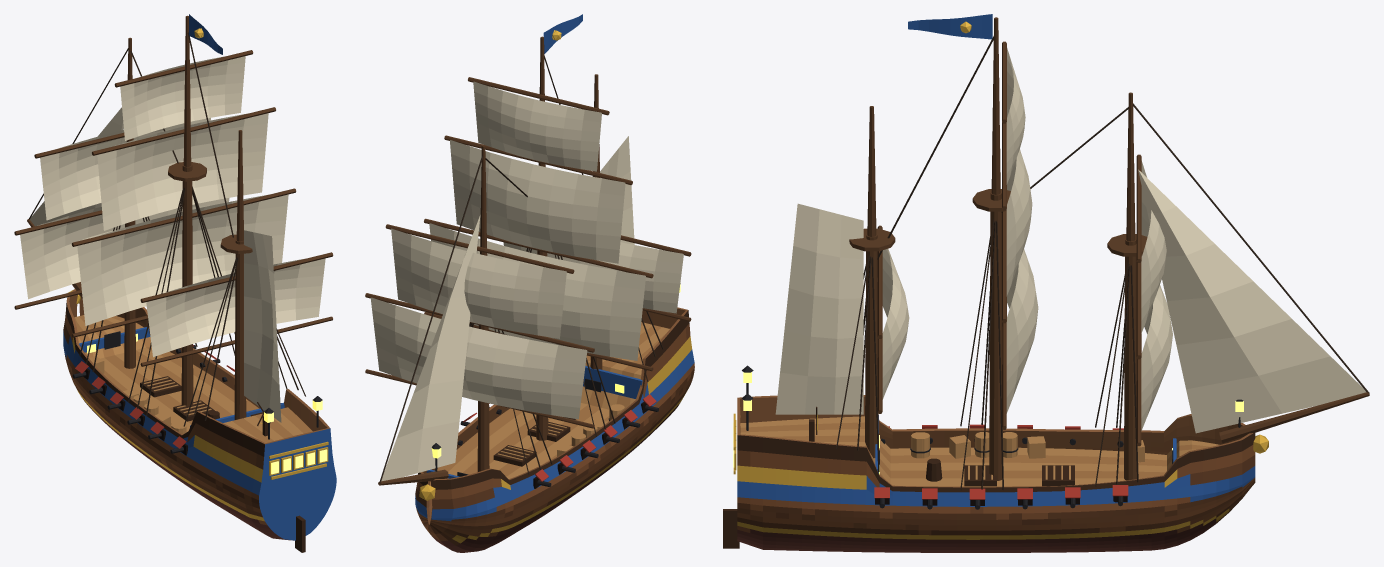
The model's file is galleon.glb.
The picture shows the model from 3 angles, left to right: view 1: azimuth 30°, elevation 25°; view 2: azimuth 150°, elevation 25°; view 3: azimuth 270°, elevation 25°; orthographic projection. The views are drawn at different scales.
Parts seen in each view (by area): view 1: Hull, Sail_1_0, Sail_1_1, Sail_2_0, Sail_1_2, Sail_spanker, Sail_0_0, Sail_0_1, Sail_jib, Flag; view 2: Hull, Sail_1_1, Sail_0_0, Sail_0_1, Sail_jib, Sail_1_0, Sail_1_2, Sail_2_0, Sail_spanker, Flag; view 3: Hull, Sail_jib, Sail_spanker, Sail_1_0, Sail_0_0, Sail_2_0, Sail_1_1, Sail_0_1, Sail_1_2, Flag.
Part boxes in pixels (x1,y1,x2,y2): Hull: [14, 15, 336, 552]; Sail_1_0: [77, 194, 288, 325]; Sail_1_1: [97, 113, 268, 230]; Sail_2_0: [146, 258, 325, 357]; Sail_1_2: [120, 56, 245, 140]; Sail_spanker: [244, 230, 281, 422]; Sail_0_0: [20, 198, 229, 299]; Sail_0_1: [40, 118, 210, 220]; Sail_jib: [30, 107, 123, 226]; Flag: [189, 14, 222, 54]; Hull: [365, 36, 694, 552]; Sail_1_1: [449, 140, 625, 263]; Sail_0_0: [370, 297, 587, 419]; Sail_0_1: [391, 228, 566, 338]; Sail_jib: [381, 215, 480, 481]; Sail_1_0: [429, 223, 645, 360]; Sail_1_2: [473, 81, 601, 171]; Sail_2_0: [503, 242, 683, 313]; Sail_spanker: [600, 136, 634, 244]; Flag: [543, 14, 582, 53]; Hull: [723, 17, 1369, 552]; Sail_jib: [1138, 169, 1366, 433]; Sail_spanker: [775, 203, 863, 414]; Sail_1_0: [1006, 249, 1038, 413]; Sail_0_0: [1141, 256, 1172, 430]; Sail_2_0: [882, 248, 909, 399]; Sail_1_1: [1006, 149, 1032, 296]; Sail_0_1: [1141, 161, 1166, 333]; Sail_1_2: [1006, 48, 1025, 184]; Flag: [908, 14, 992, 39].
Bounding box in the file's own units: 12.81 × 25.01 × 27.47.
